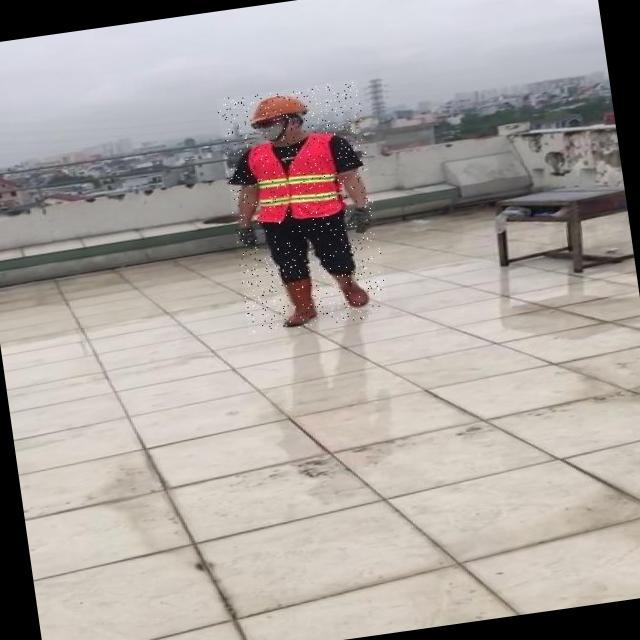Gloves: (348, 206, 373, 233), (235, 223, 257, 245)
Helmet: (242, 88, 318, 129)
Human: (216, 80, 390, 335)
Safety Boot: (279, 278, 323, 326), (332, 268, 379, 312)
Safety Vest: (247, 132, 350, 227)
